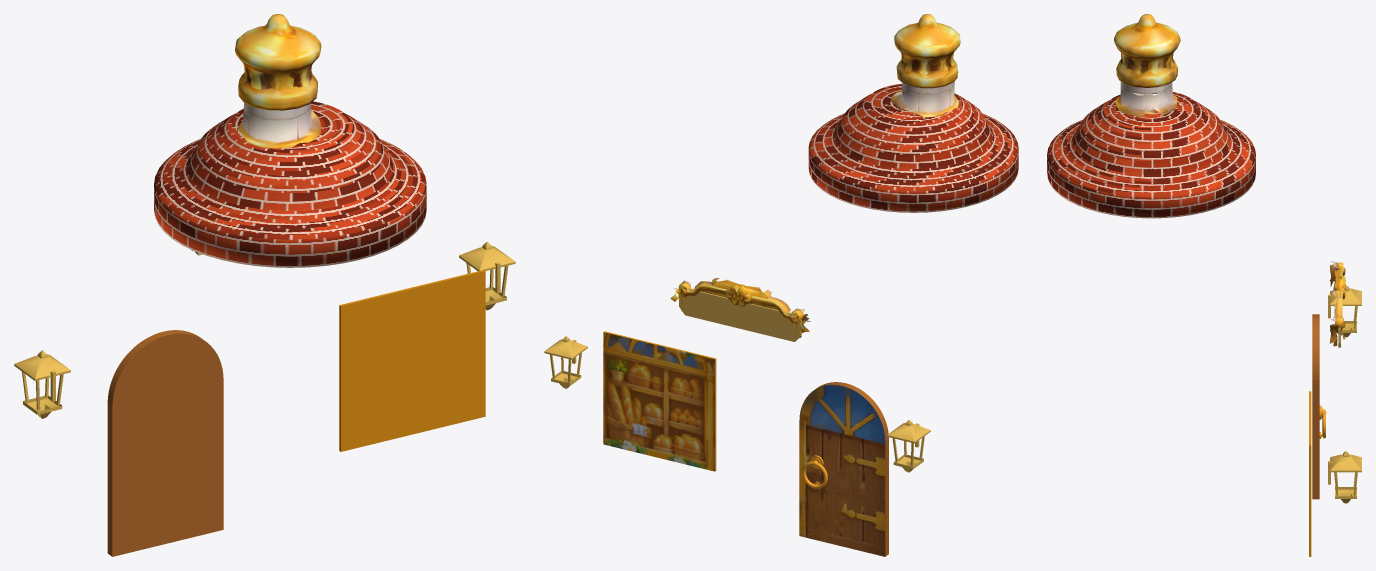
File: HaloShop_Bakery_deco.glb
3 views of the same model, side by side, from view 1: azimuth 30°, elevation 25°; view 2: azimuth 150°, elevation 25°; view 3: azimuth 270°, elevation 25° (orthographic). The views are drawn at different scales.
Parts seen in each view (by area): view 1: HaloShop_Bakery_BrickDome, HaloShop_Bakery_Leaf, HaloShop_Bakery_Display.001, HaloShop_Bakery_ChimneyCap, HaloShop_Bakery_Chimney, HaloShop_Bakery_Lantern1, HaloShop_Bakery_Lantern0; view 2: HaloShop_Bakery_BrickDome, HaloShop_Bakery_Leaf, HaloShop_Bakery_Display.001, HaloShop_Bakery_ChimneyCap, HaloShop_Bakery_PlaqueBack, HaloShop_Bakery_Sign, HaloShop_Bakery_Chimney, HaloShop_Bakery_Lantern1, HaloShop_Bakery_Lantern0; view 3: HaloShop_Bakery_BrickDome, HaloShop_Bakery_ChimneyCap, HaloShop_Bakery_Chimney, HaloShop_Bakery_Leaf, HaloShop_Bakery_Lantern0, HaloShop_Bakery_Sign, HaloShop_Bakery_Lantern1, HaloShop_Bakery_Display.001.
Part boxes in pixels (bbox=[...]): HaloShop_Bakery_BrickDome: bbox=[154, 101, 426, 267]; HaloShop_Bakery_Leaf: bbox=[107, 330, 223, 556]; HaloShop_Bakery_Display.001: bbox=[339, 270, 485, 451]; HaloShop_Bakery_ChimneyCap: bbox=[235, 14, 321, 110]; HaloShop_Bakery_Chimney: bbox=[237, 102, 320, 148]; HaloShop_Bakery_Lantern1: bbox=[14, 350, 70, 418]; HaloShop_Bakery_Lantern0: bbox=[459, 241, 515, 310]; HaloShop_Bakery_BrickDome: bbox=[808, 83, 1018, 212]; HaloShop_Bakery_Leaf: bbox=[799, 382, 888, 556]; HaloShop_Bakery_Display.001: bbox=[603, 331, 716, 471]; HaloShop_Bakery_ChimneyCap: bbox=[894, 14, 960, 88]; HaloShop_Bakery_PlaqueBack: bbox=[679, 288, 801, 341]; HaloShop_Bakery_Sign: bbox=[670, 278, 810, 338]; HaloShop_Bakery_Chimney: bbox=[891, 81, 958, 117]; HaloShop_Bakery_Lantern1: bbox=[887, 420, 930, 472]; HaloShop_Bakery_Lantern0: bbox=[544, 336, 587, 388]; HaloShop_Bakery_BrickDome: bbox=[1047, 92, 1255, 218]; HaloShop_Bakery_ChimneyCap: bbox=[1114, 14, 1180, 87]; HaloShop_Bakery_Chimney: bbox=[1115, 81, 1177, 117]; HaloShop_Bakery_Leaf: bbox=[1312, 314, 1319, 499]; HaloShop_Bakery_Lantern0: bbox=[1328, 451, 1361, 503]; HaloShop_Bakery_Sign: bbox=[1329, 261, 1345, 346]; HaloShop_Bakery_Lantern1: bbox=[1328, 285, 1361, 337]; HaloShop_Bakery_Display.001: bbox=[1309, 391, 1311, 556].
Bounding box in the file's own units: 18.59 × 22.43 × 13.77.
Materials: 9 (6 with a texture image).
